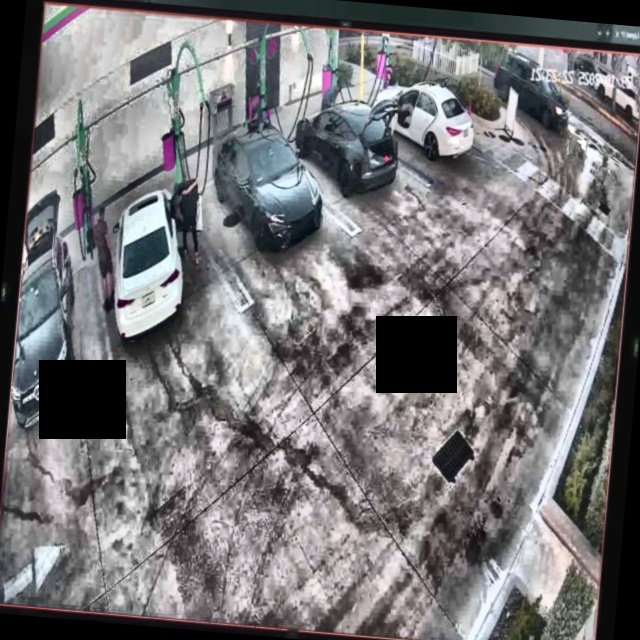Car: (205, 120, 333, 258), (113, 175, 200, 347), (291, 89, 404, 198), (368, 78, 479, 164)
